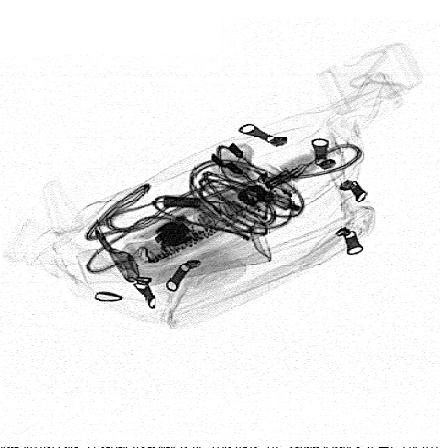Sprayer: (75, 215, 272, 287)
